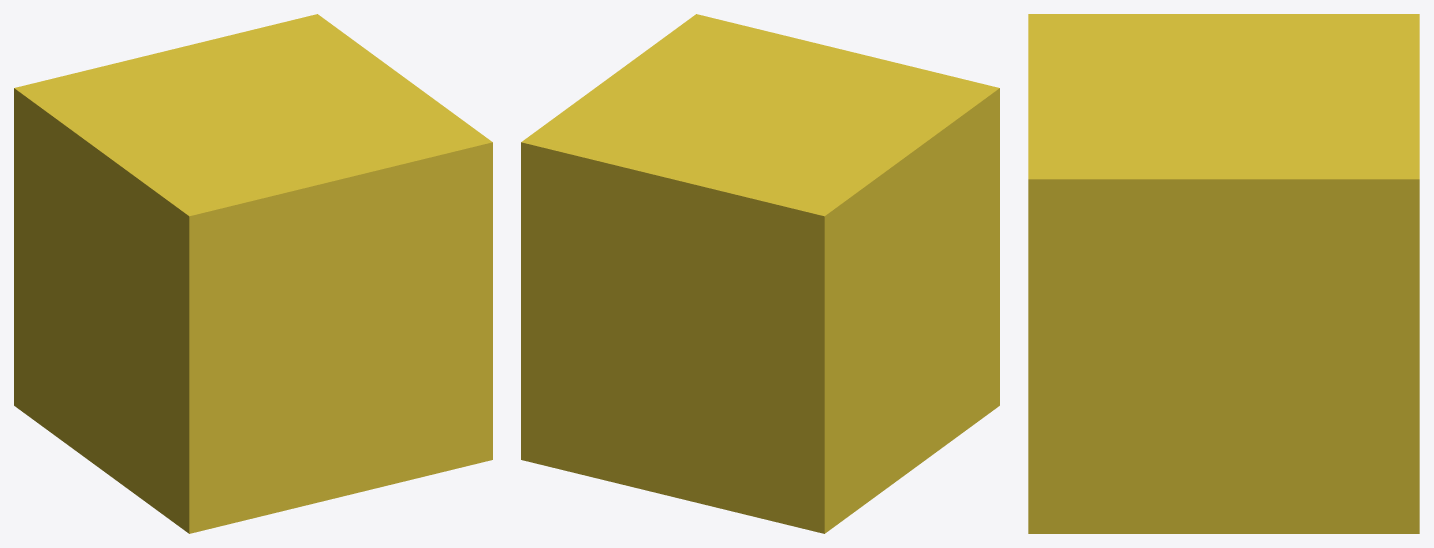
File: desertcubefull.glb
The picture shows the model from 3 angles, left to right: view 1: azimuth 30°, elevation 25°; view 2: azimuth 150°, elevation 25°; view 3: azimuth 270°, elevation 25°; orthographic projection. The views are drawn at different scales.
Parts seen in each view (by area): view 1: Desert_Cube_Full; view 2: Desert_Cube_Full; view 3: Desert_Cube_Full.
Boxes of the visible parts, x1,y1,x2,y2 form: Desert_Cube_Full: (14, 14, 492, 533); Desert_Cube_Full: (521, 14, 999, 533); Desert_Cube_Full: (1028, 14, 1419, 533).
Bounding box in the file's own units: 2 × 2 × 2.
